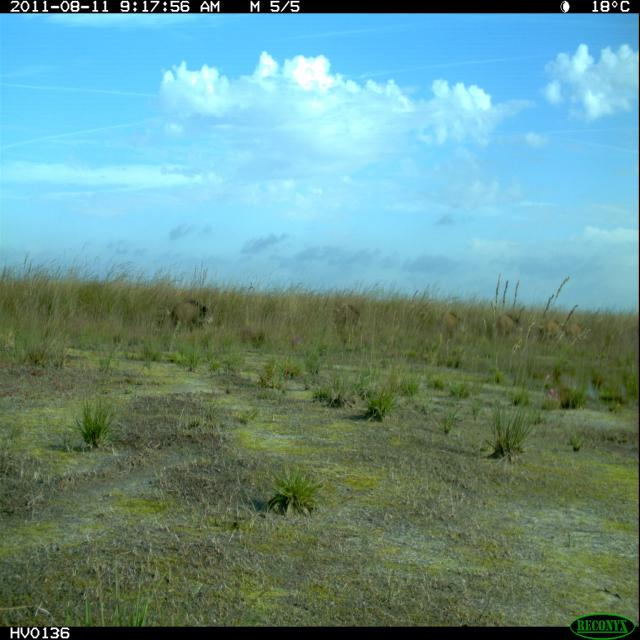boar: (164, 284, 221, 344), (318, 286, 372, 342), (420, 301, 476, 351), (536, 308, 574, 367), (481, 306, 532, 348), (557, 312, 592, 356)
